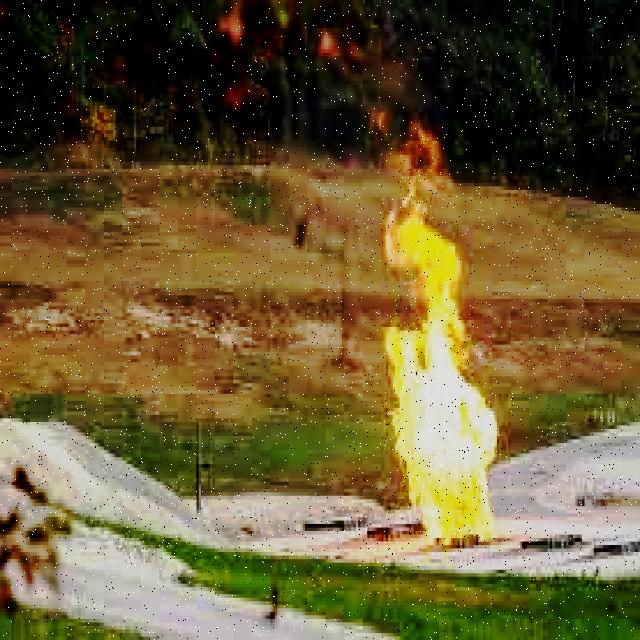api: (378, 142, 505, 546)
